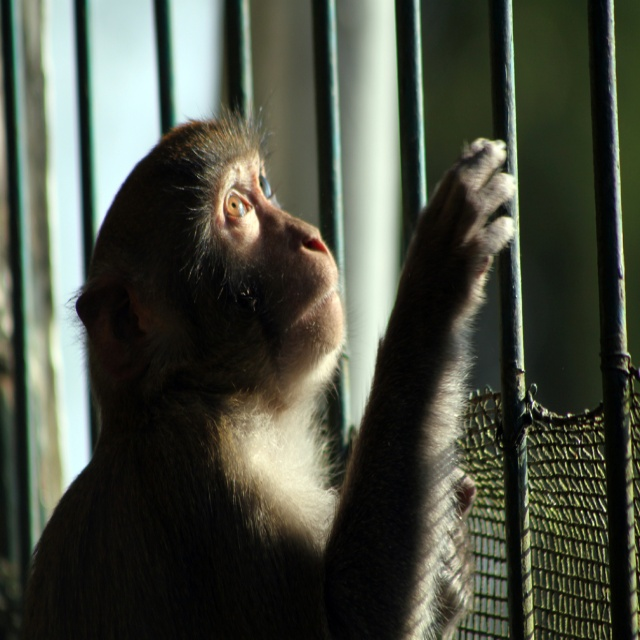Monkey: (18, 106, 517, 639)
